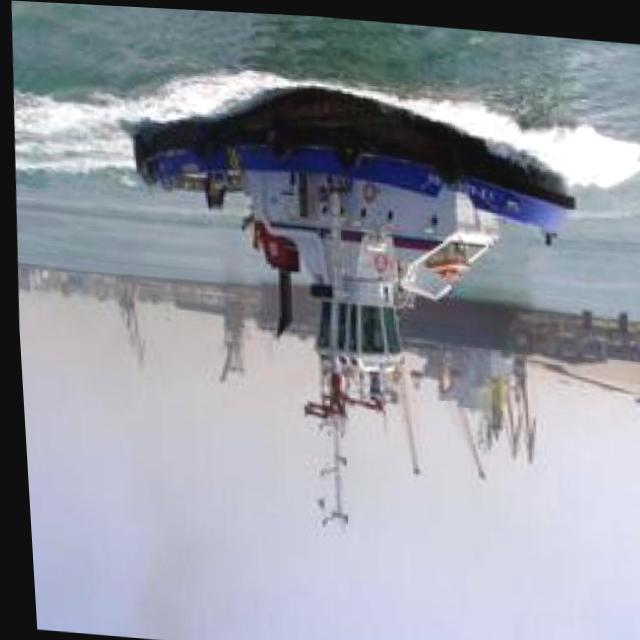ship2: (129, 79, 573, 525)
